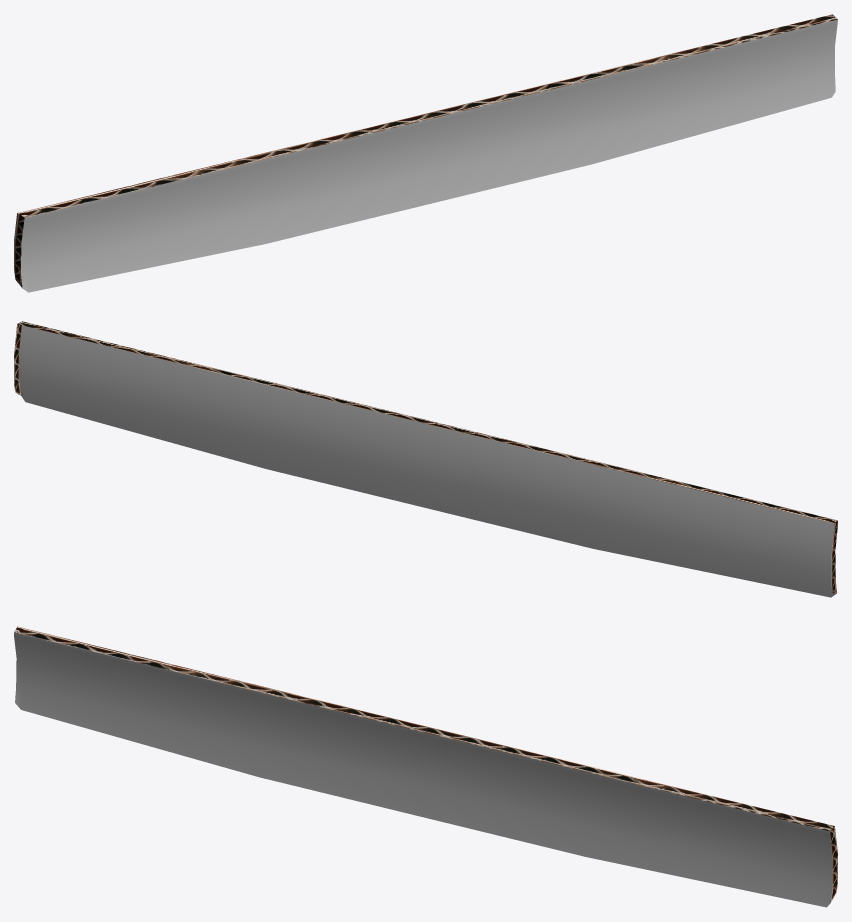
Rendered from SK_Border_001.fbx.
3 renders of one model, top to bottom at view 1: azimuth 30°, elevation 25°; view 2: azimuth 150°, elevation 25°; view 3: azimuth 330°, elevation 25°, orthographic.
Visible parts, largest first — view 1: pPlane18; view 2: pPlane18; view 3: pPlane18.
Boxes of the visible parts, x1,y1,x2,y2 form: pPlane18: [14, 14, 837, 292]; pPlane18: [14, 321, 837, 597]; pPlane18: [14, 626, 837, 907].
Bounding box in the file's own units: 694 × 71.32 × 12.77.
